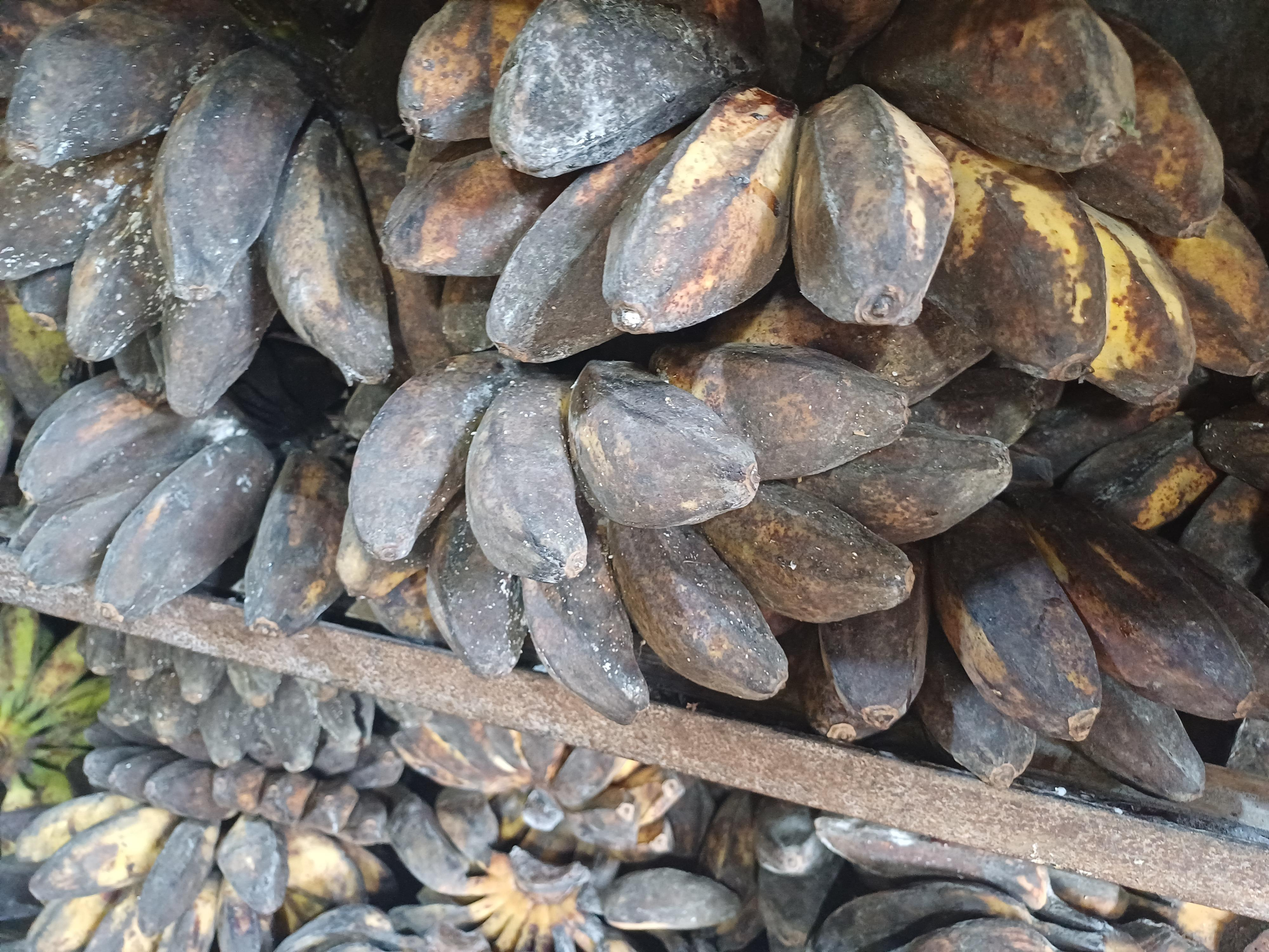overripe: (382, 0, 1269, 402), (337, 288, 1065, 723), (0, 0, 450, 416), (780, 485, 1269, 802), (18, 374, 346, 635), (1011, 384, 1269, 587), (82, 703, 404, 846), (395, 714, 692, 861), (82, 626, 375, 773), (809, 816, 1057, 952), (386, 787, 499, 952), (600, 869, 740, 952)
ripe: (15, 793, 396, 952)
